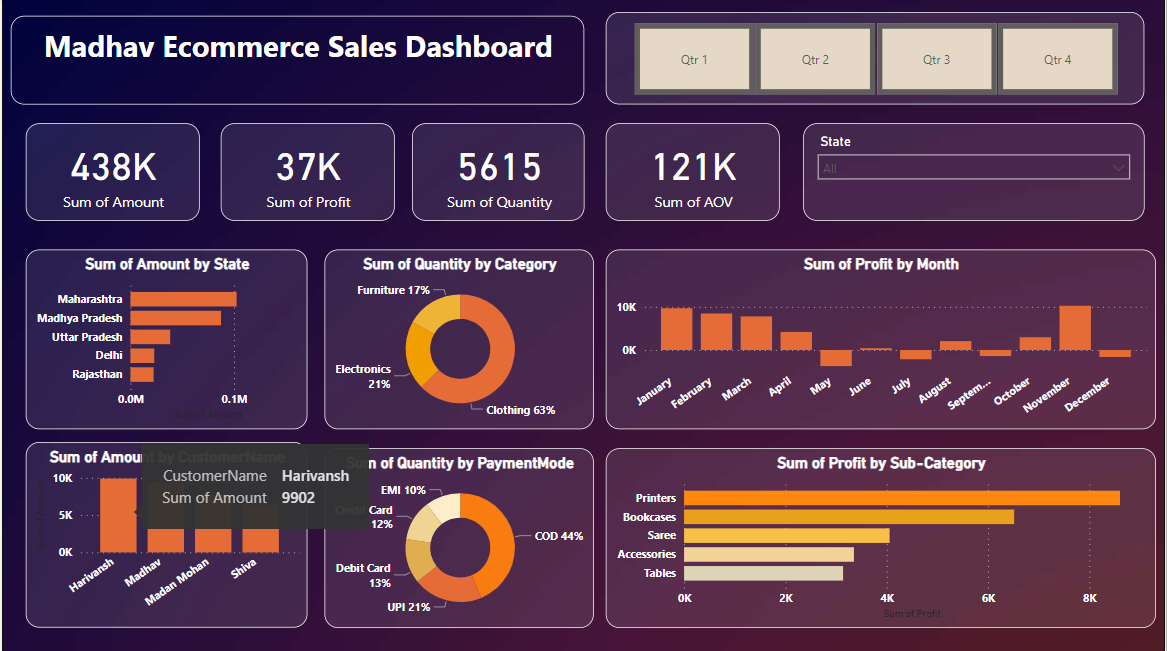

The page's visual inventory and layout, read from the dashboard file:
{"tool":"powerbi","page":{"name":"Page 1","canvas":[1280,720],"ordinal":0},"visuals":[{"type":"textbox","box":[9.6,20.6,630.7,97.6],"z":0},{"type":"columnChart","fields":{"Y":["Details.Profit"],"Category":["Orders.Order Date.Variation.Date Hierarchy.Month"]},"box":[663.6,277,604.6,197.4],"z":1},{"type":"clusteredBarChart","fields":{"Category":["Details.Sub-Category"],"Y":["Details.Profit"]},"box":[663.6,496.3,604.6,197.4],"z":2},{"type":"donutChart","fields":{"Category":["Details.Category"],"Y":["Details.Quantity"]},"box":[355.1,277,296.1,197.4],"z":3},{"type":"donutChart","fields":{"Category":["Details.PaymentMode"],"Y":["Details.Quantity"]},"box":[355.1,496.3,296.1,197.4],"z":4},{"type":"card","fields":{"Values":["Details.Amount"]},"box":[26.1,138.8,191,107.2],"z":5},{"type":"card","fields":{"Values":["Details.Quantity"]},"box":[450.7,138.8,189.6,107.2],"z":6},{"type":"card","fields":{"Values":["Details.Profit"]},"box":[240.4,138.8,191,107.2],"z":7},{"type":"card","fields":{"Values":["Details.AOV"]},"box":[663.6,138.8,191,107.2],"z":8},{"type":"clusteredBarChart","fields":{"Category":["Orders.State"],"Y":["Details.Amount"]},"box":[26,277,309.9,197.4],"z":9},{"type":"columnChart","fields":{"Y":["Details.Amount"],"Category":["Orders.CustomerName"]},"box":[26,489.5,309.9,204.3],"z":10},{"type":"slicer","fields":{"Values":["Orders.Order Date.Variation.Date Hierarchy.Quarter"]},"box":[663.6,16.5,592.2,101.7],"z":11},{"type":"slicer","fields":{"Values":["Orders.State"]},"box":[880.7,138.8,375.1,107.2],"z":12}]}

Visuals, with their boxes in screenshot pixels (x1, y1, x2, y2), scaled from the page's 1280x720 canvas onto the 1167x651 screenshot:
textbox: {"left": 9, "top": 19, "right": 584, "bottom": 107}
columnChart - Details.Profit x Orders.Order Date.Variation.Date Hierarchy.Month: {"left": 605, "top": 250, "right": 1156, "bottom": 429}
clusteredBarChart - Details.Sub-Category x Details.Profit: {"left": 605, "top": 449, "right": 1156, "bottom": 627}
donutChart - Details.Category x Details.Quantity: {"left": 324, "top": 250, "right": 594, "bottom": 429}
donutChart - Details.PaymentMode x Details.Quantity: {"left": 324, "top": 449, "right": 594, "bottom": 627}
card - Details.Amount: {"left": 24, "top": 125, "right": 198, "bottom": 222}
card - Details.Quantity: {"left": 411, "top": 125, "right": 584, "bottom": 222}
card - Details.Profit: {"left": 219, "top": 125, "right": 393, "bottom": 222}
card - Details.AOV: {"left": 605, "top": 125, "right": 779, "bottom": 222}
clusteredBarChart - Orders.State x Details.Amount: {"left": 24, "top": 250, "right": 306, "bottom": 429}
columnChart - Details.Amount x Orders.CustomerName: {"left": 24, "top": 443, "right": 306, "bottom": 627}
slicer - Orders.Order Date.Variation.Date Hierarchy.Quarter: {"left": 605, "top": 15, "right": 1145, "bottom": 107}
slicer - Orders.State: {"left": 803, "top": 125, "right": 1145, "bottom": 222}
